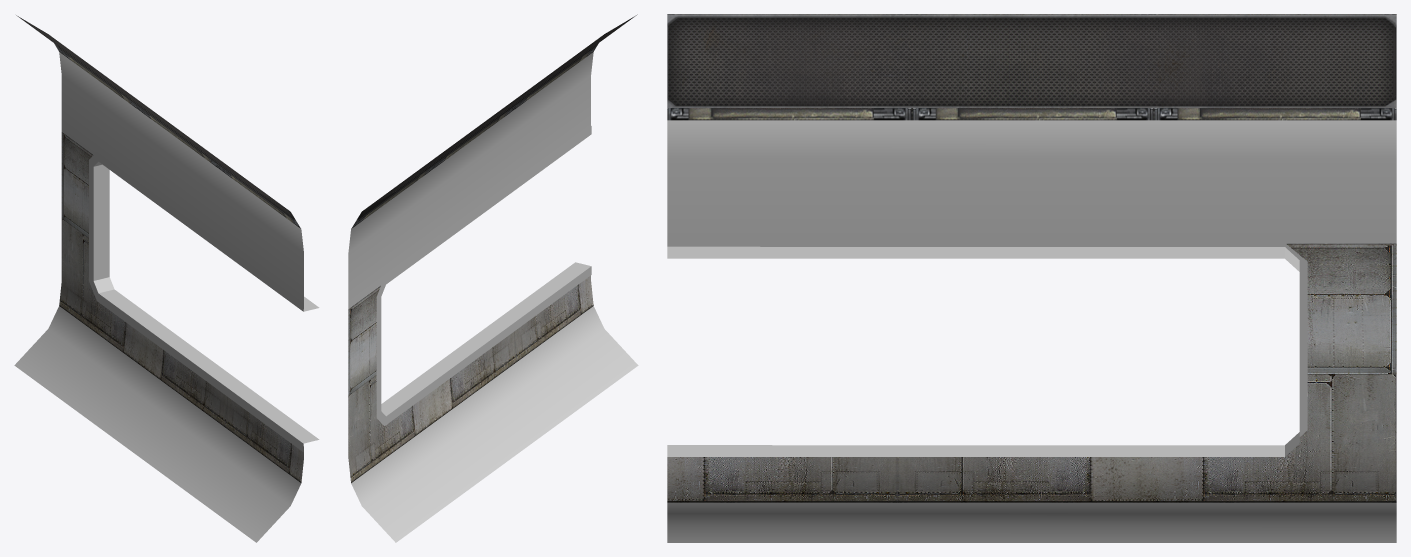
File: Wall_L_Mid4mts_10.fbx
3 renders of one model, left to right at view 1: azimuth 30°, elevation 25°; view 2: azimuth 150°, elevation 25°; view 3: azimuth 270°, elevation 25°, orthographic. The views are drawn at different scales.
Visible parts, largest first — view 1: Wall_L_Mid4mts_10; view 2: Wall_L_Mid4mts_10; view 3: Wall_L_Mid4mts_10.
Part boxes in pixels (left/top/right/bottom): Wall_L_Mid4mts_10: left=14, top=15, right=319, bottom=542; Wall_L_Mid4mts_10: left=348, top=14, right=638, bottom=542; Wall_L_Mid4mts_10: left=667, top=14, right=1396, bottom=542.
Size of the model in its own units: 75.37 by 400 by 500.
